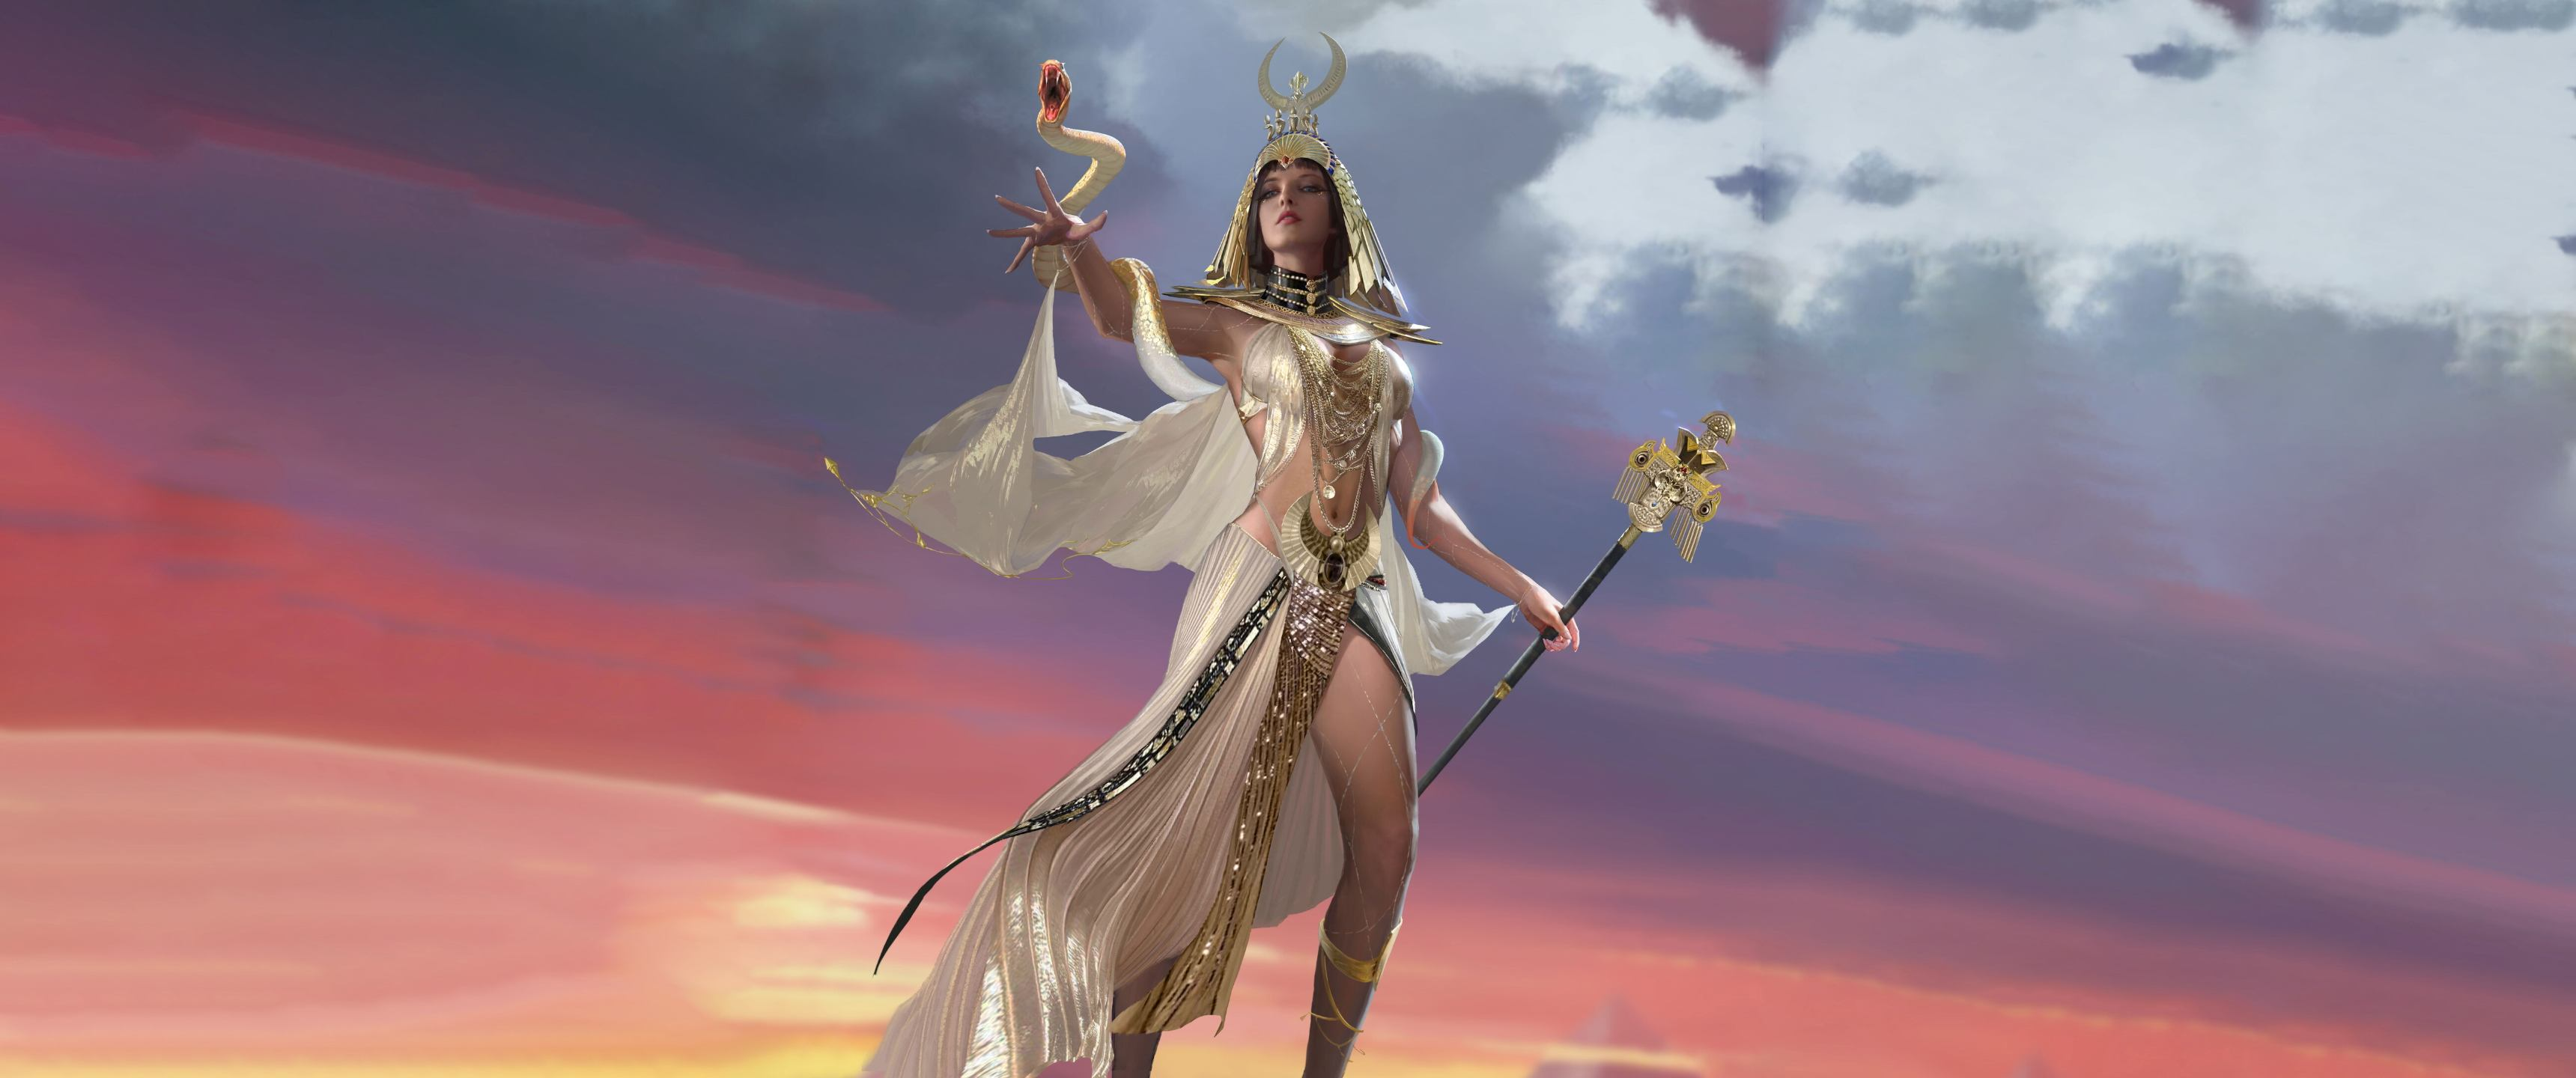person: (935, 124, 1877, 1065)
